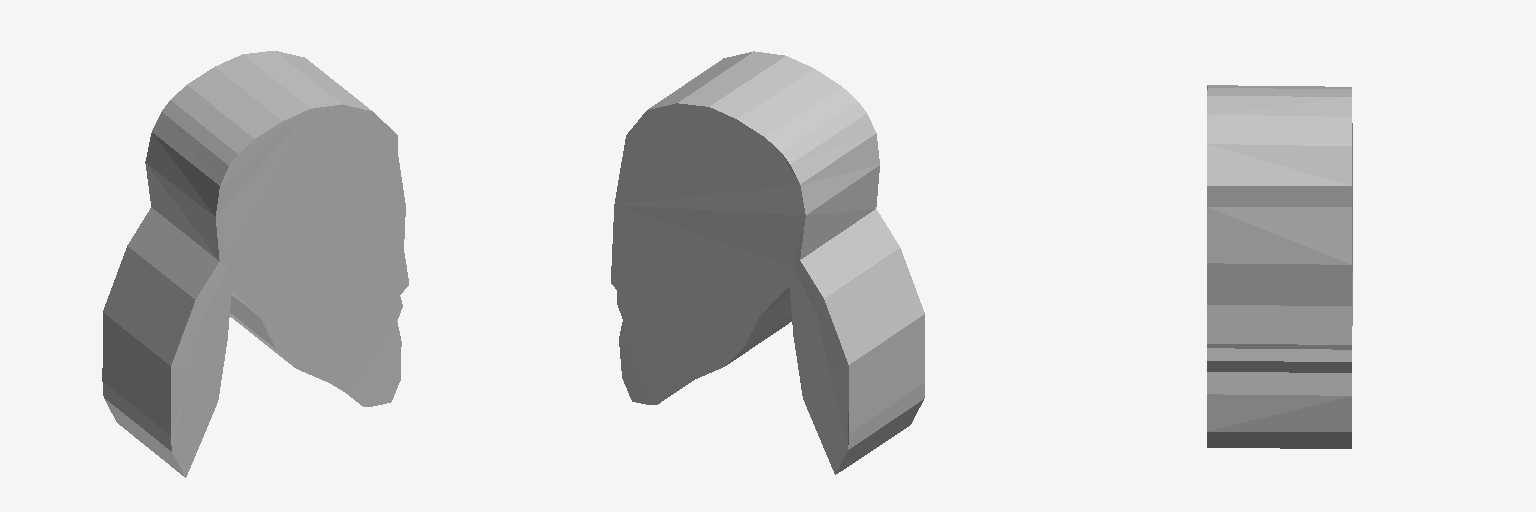
Rendered from HohnheimHead.obj.
3 renders of one model, left to right at view 1: azimuth 30°, elevation 25°; view 2: azimuth 150°, elevation 25°; view 3: azimuth 270°, elevation 25°, orthographic.
Visible parts, largest first — view 1: Cube.001_Cube.002; view 2: Cube.001_Cube.002; view 3: Cube.001_Cube.002.
Part boxes in pixels (x1,y1,x2,y2): Cube.001_Cube.002: (102, 51, 408, 477); Cube.001_Cube.002: (611, 51, 924, 474); Cube.001_Cube.002: (1207, 85, 1352, 448).
Bounding box in the file's own units: 0.5234 × 0.701 × 0.2725.